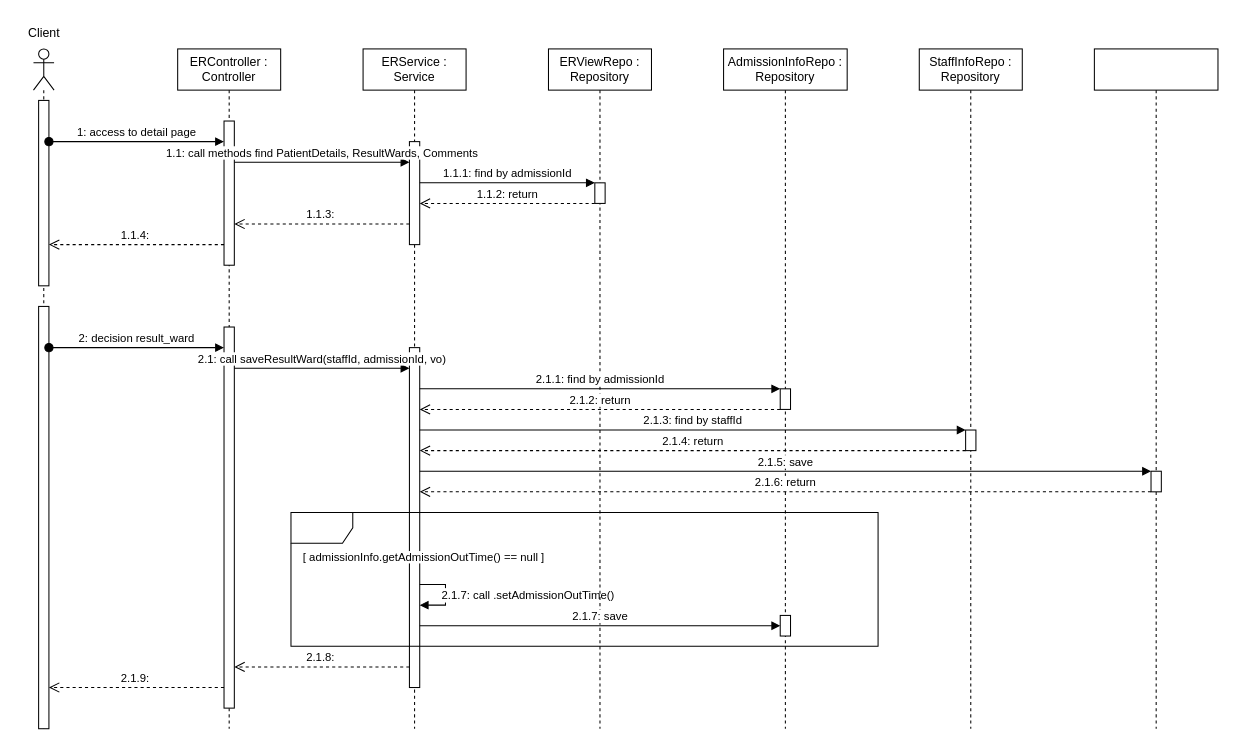
The diagram is 1236 pixels wide and 747 high, and some of its shapes have lost their labels. The shapes that lost their labels are listed below. From the top down, each one's box as (x1, y1, x2, y2) in pixels, then its label:
(1093, 48, 1218, 729): ResultWardInfoRepo : Repository
(290, 511, 878, 646): opt
